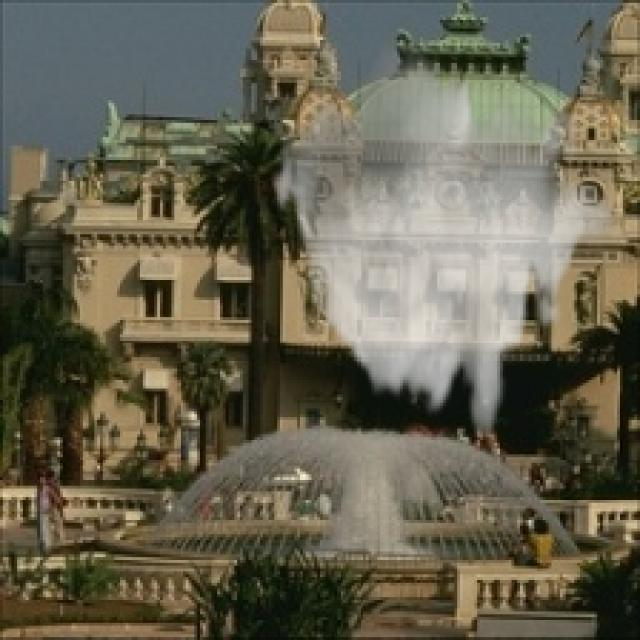Smoke: (268, 28, 614, 440)
